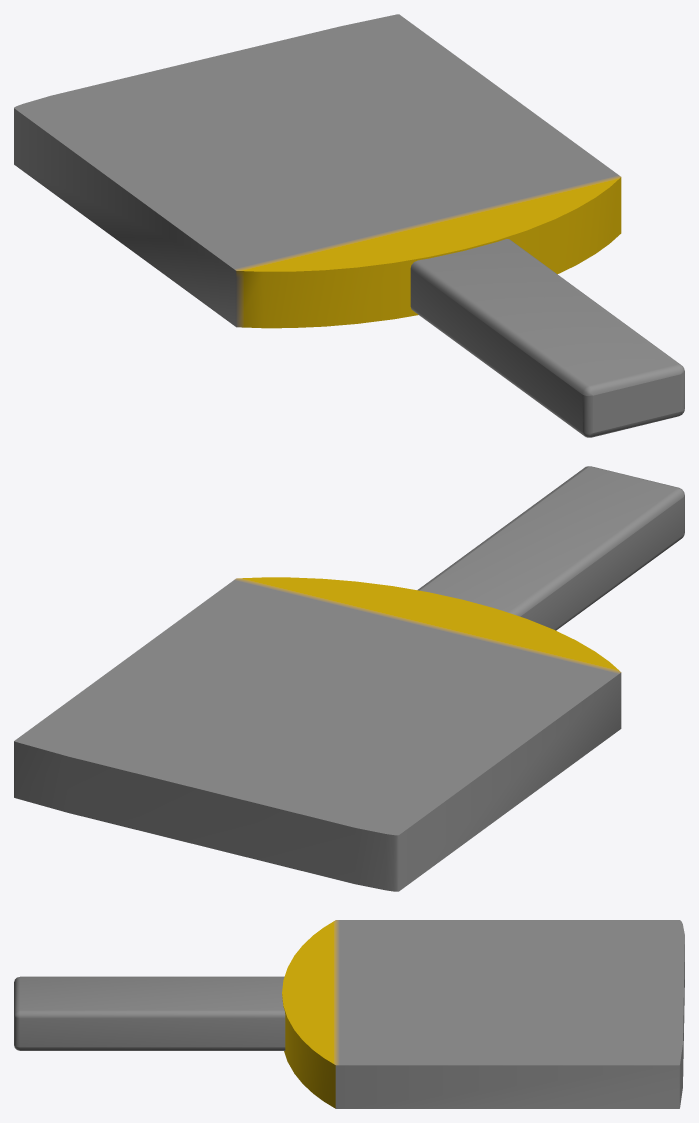
File: PressStatic.fbx
3 renders of one model, top to bottom at view 1: azimuth 30°, elevation 25°; view 2: azimuth 150°, elevation 25°; view 3: azimuth 270°, elevation 25°, orthographic. The views are drawn at different scales.
Parts seen in each view (by area): view 1: PressStatic; view 2: PressStatic; view 3: PressStatic.
Boxes of the visible parts, left/top/right/bottom form: PressStatic: left=14, top=14, right=684, bottom=437; PressStatic: left=14, top=466, right=684, bottom=891; PressStatic: left=14, top=920, right=684, bottom=1108.
Size of the model in its own units: 400 by 56 by 781.
1 material, 1 textured.
